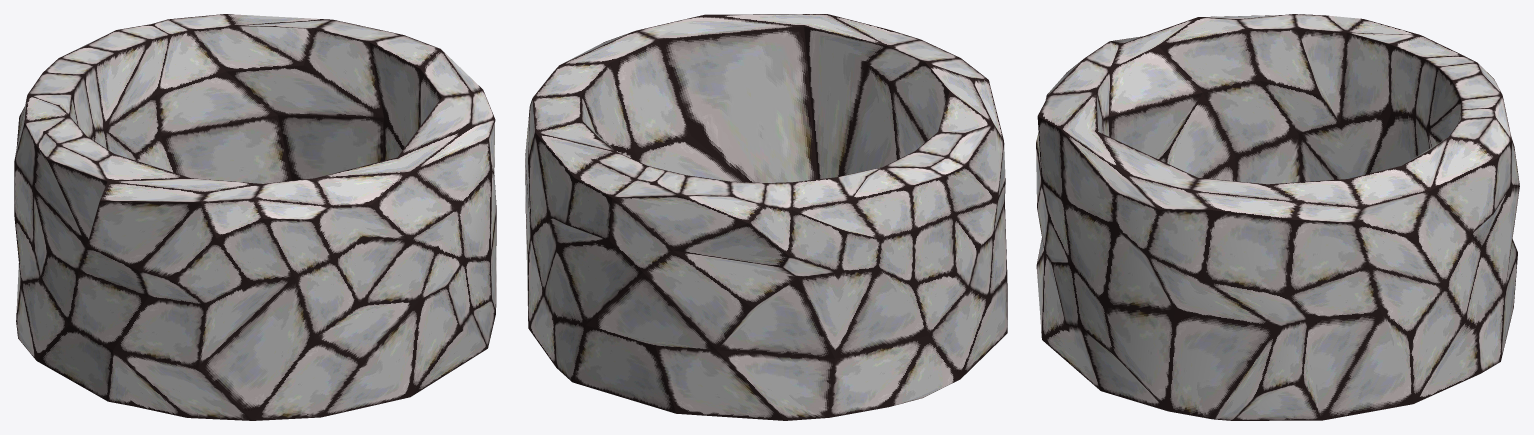
The model's file is Well_Base_test.fbx.
3 renders of one model, left to right at view 1: azimuth 30°, elevation 25°; view 2: azimuth 150°, elevation 25°; view 3: azimuth 270°, elevation 25°, orthographic.
Visible parts, largest first — view 1: polySurface39; view 2: polySurface39; view 3: polySurface39.
Part boxes in pixels (left/top/right/bottom): polySurface39: left=14, top=14, right=496, bottom=420; polySurface39: left=525, top=14, right=1007, bottom=420; polySurface39: left=1036, top=14, right=1519, bottom=420.
Size of the model in its own units: 216 by 106 by 216.
